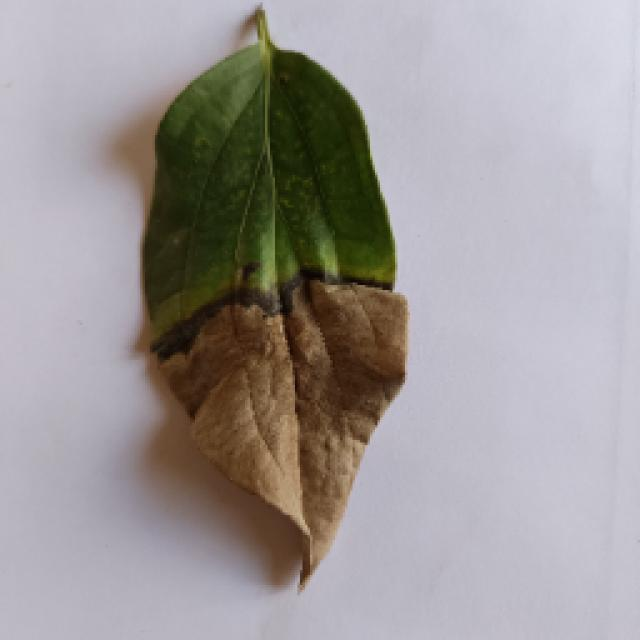footrot: (138, 10, 410, 592)
